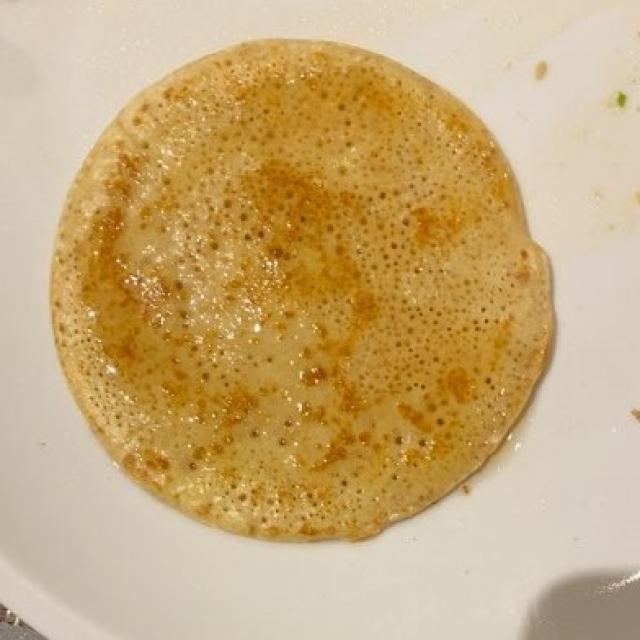crepe: (58, 47, 546, 534)
